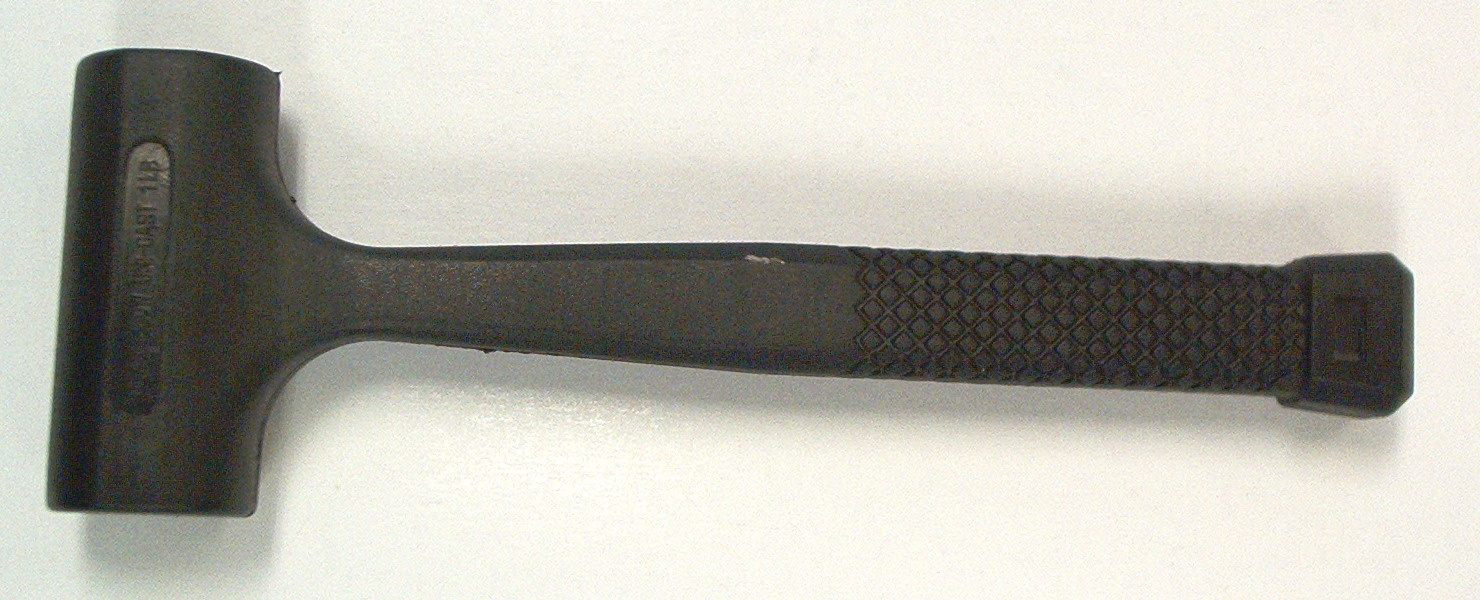hammer: (58, 42, 1420, 534)
